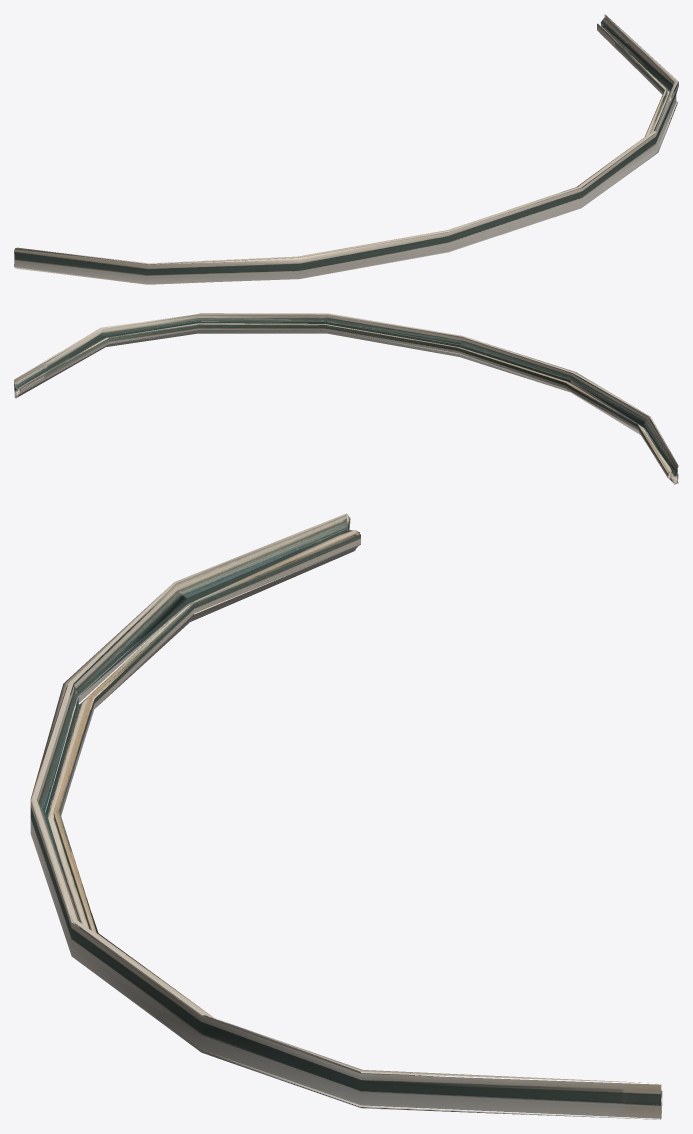
File: item17.glb
The picture shows the model from 3 angles, top to bottom: view 1: azimuth 30°, elevation 25°; view 2: azimuth 150°, elevation 25°; view 3: azimuth 270°, elevation 25°; orthographic projection. The views are drawn at different scales.
Parts seen in each view (by area): view 1: Mesh_0; view 2: Mesh_0; view 3: Mesh_0.
Boxes of the visible parts, x1,y1,x2,y2 form: Mesh_0: [14, 14, 678, 284]; Mesh_0: [14, 313, 678, 484]; Mesh_0: [30, 513, 662, 1119].
Size of the model in its own units: 1 by 0.0308 by 0.4665.
Materials: 1 (1 with a texture image).
